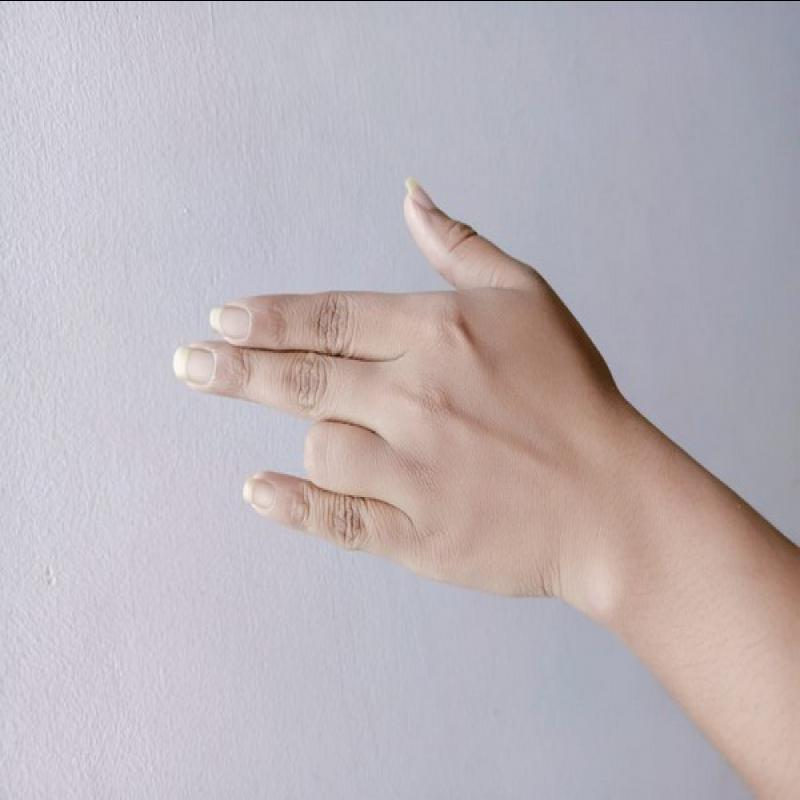Pathaaka: (159, 137, 641, 617)
